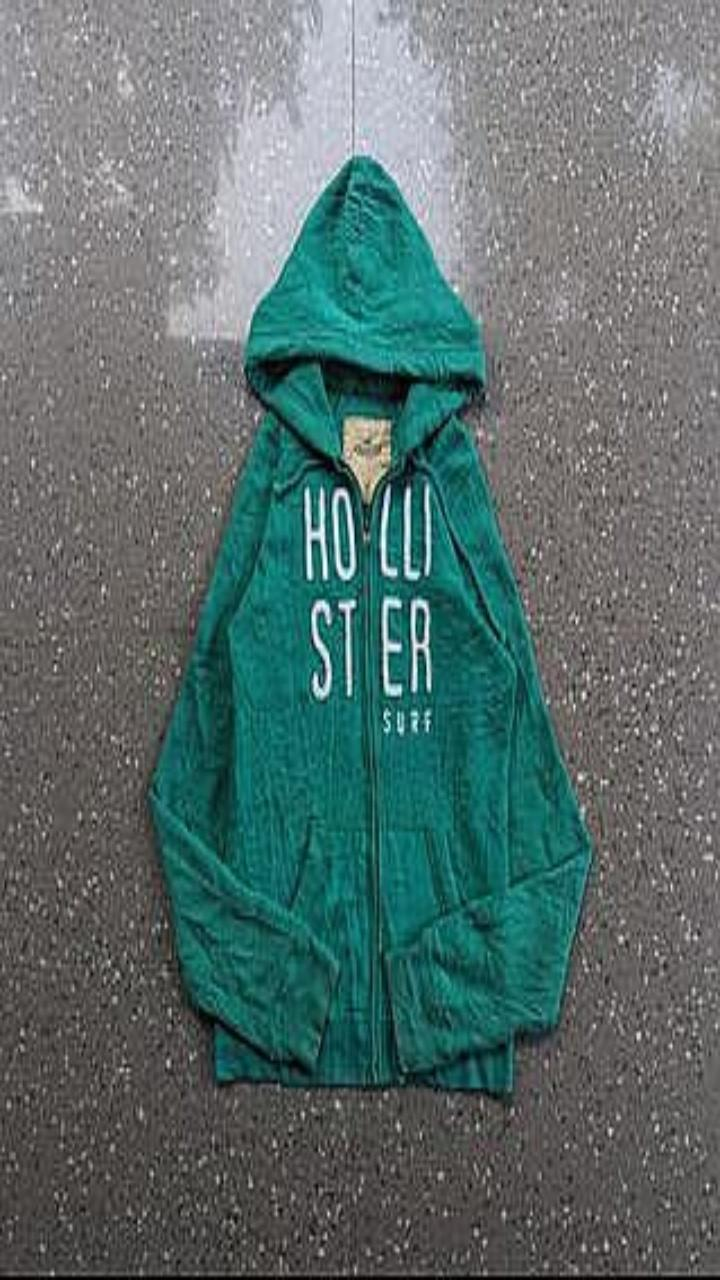Hoodie: (148, 155, 590, 1092)
